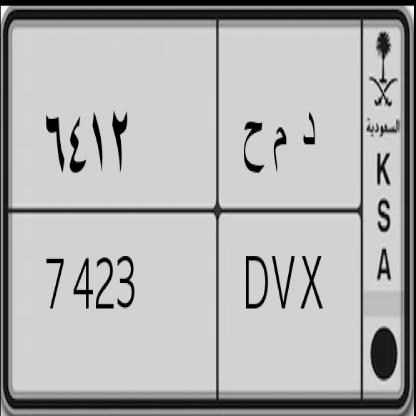english: (5, 196, 365, 393)
